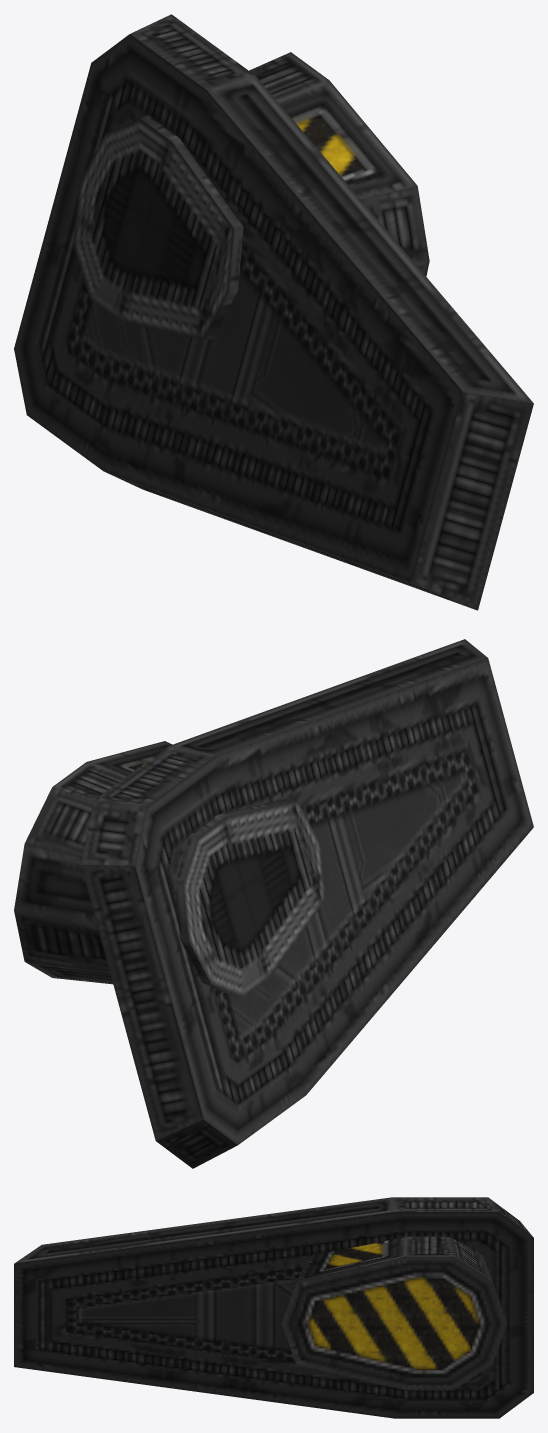
File: BFP_ConstFrwrdHullFin01_R.FBX
The picture shows the model from 3 angles, top to bottom: view 1: azimuth 30°, elevation 25°; view 2: azimuth 150°, elevation 25°; view 3: azimuth 270°, elevation 25°; orthographic projection. The views are drawn at different scales.
Parts seen in each view (by area): view 1: BFP_ConstFrwrdHullFin01_R; view 2: BFP_ConstFrwrdHullFin01_R; view 3: BFP_ConstFrwrdHullFin01_R.
Part boxes in pixels (x1,y1,x2,y2): BFP_ConstFrwrdHullFin01_R: (14, 14, 533, 610); BFP_ConstFrwrdHullFin01_R: (14, 639, 533, 1168); BFP_ConstFrwrdHullFin01_R: (14, 1197, 533, 1418).
Bounding box in the file's own units: 48.98 × 76.56 × 150.
1 material, 1 textured.
